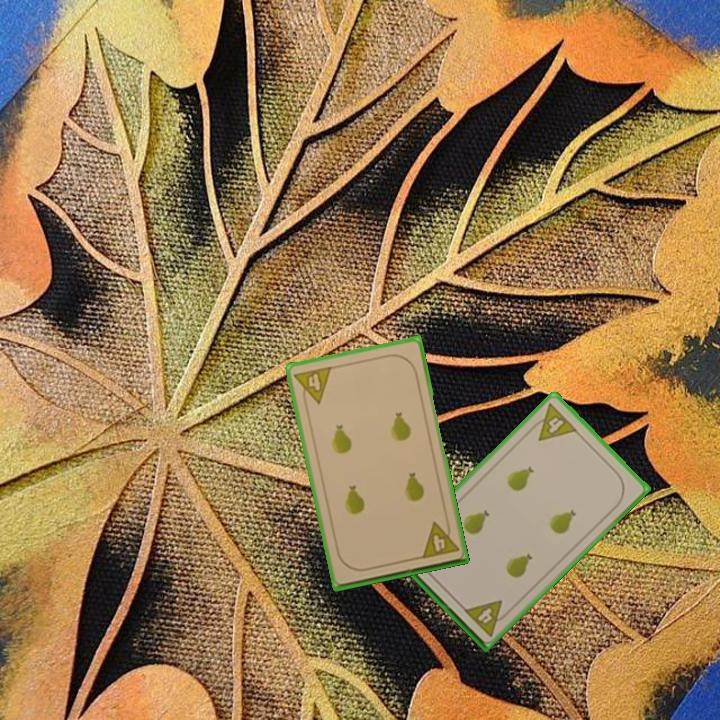4p: (526, 400, 580, 444), (460, 596, 513, 639), (291, 363, 335, 409), (417, 516, 461, 562)
